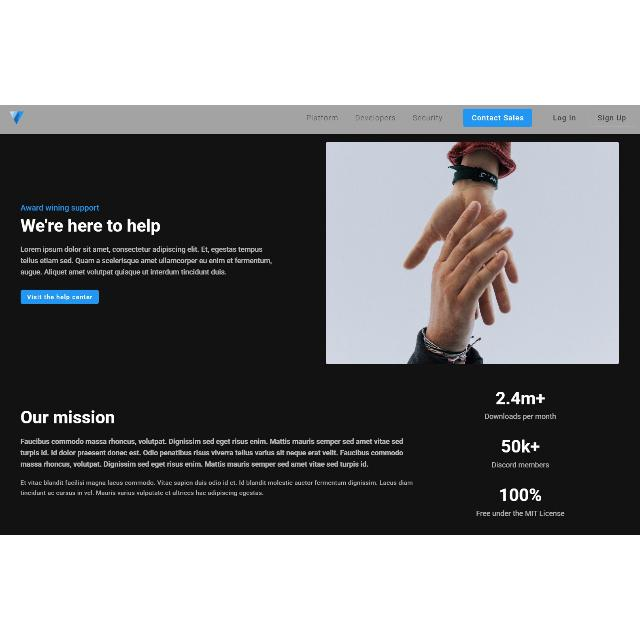QLabel: (19, 438, 404, 470), (19, 245, 272, 277), (19, 479, 414, 497), (20, 218, 160, 236), (21, 410, 115, 426), (494, 391, 546, 407), (475, 510, 565, 518), (20, 205, 100, 213), (502, 438, 540, 454), (484, 413, 558, 421), (500, 489, 540, 503), (490, 461, 550, 469), (472, 114, 524, 122), (26, 294, 94, 300), (354, 114, 396, 122), (306, 114, 338, 122), (413, 114, 443, 122), (596, 114, 626, 122), (552, 115, 576, 123)
VAppBar: (0, 106, 640, 134)
VBtn: (462, 109, 532, 128), (20, 289, 100, 305), (588, 109, 636, 128)
VImg: (324, 140, 620, 366), (10, 111, 24, 125)
